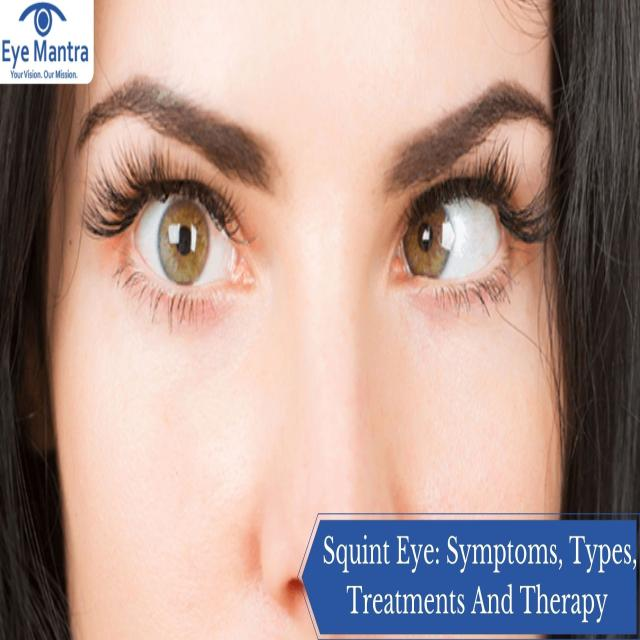Healthy-Eye: (106, 139, 266, 350)
Squint: (387, 139, 539, 341)
